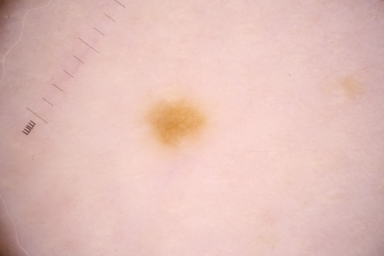nevus: (150, 103, 205, 144)
